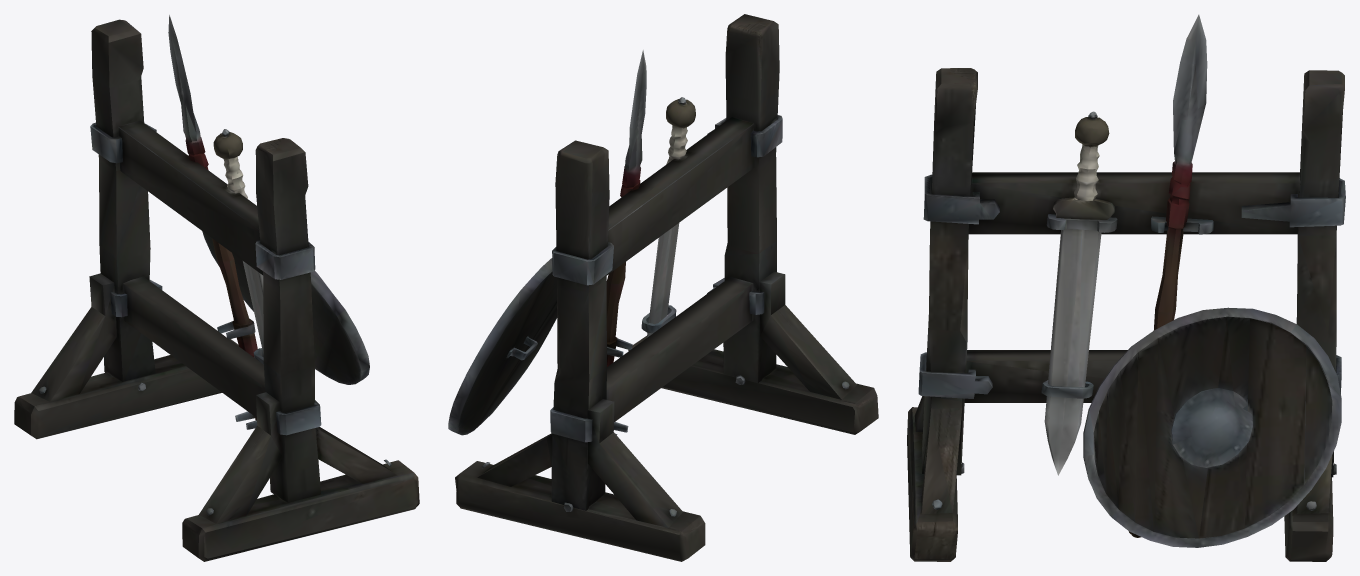
Rendered from weapon_rack.glb.
The picture shows the model from 3 angles, left to right: view 1: azimuth 30°, elevation 25°; view 2: azimuth 150°, elevation 25°; view 3: azimuth 270°, elevation 25°; orthographic projection. The views are drawn at different scales.
Parts seen in each view (by area): view 1: model; view 2: model; view 3: model.
Part boxes in pixels (x1=…): model: x1=14, y1=15, x2=419, y2=561; model: x1=448, y1=14, x2=878, y2=561; model: x1=907, y1=14, x2=1345, y2=561.
Size of the model in its own units: 0.6438 by 1 by 0.8239.
Materials: 1 (1 with a texture image).
